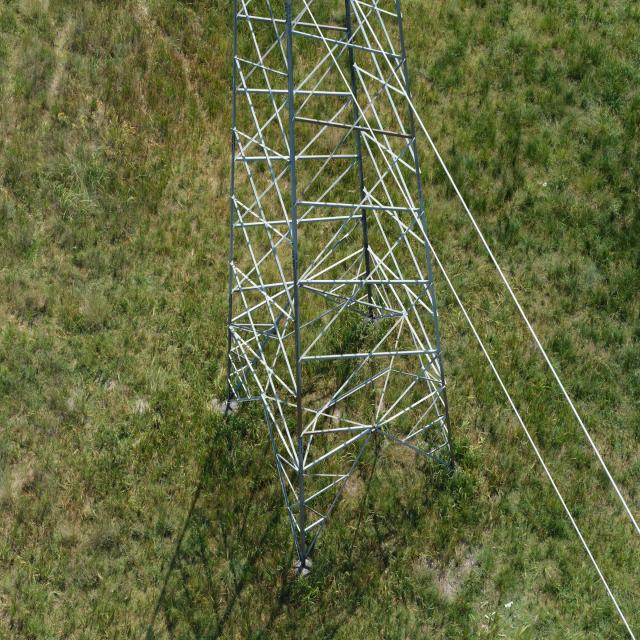direk: (225, 7, 456, 586)
